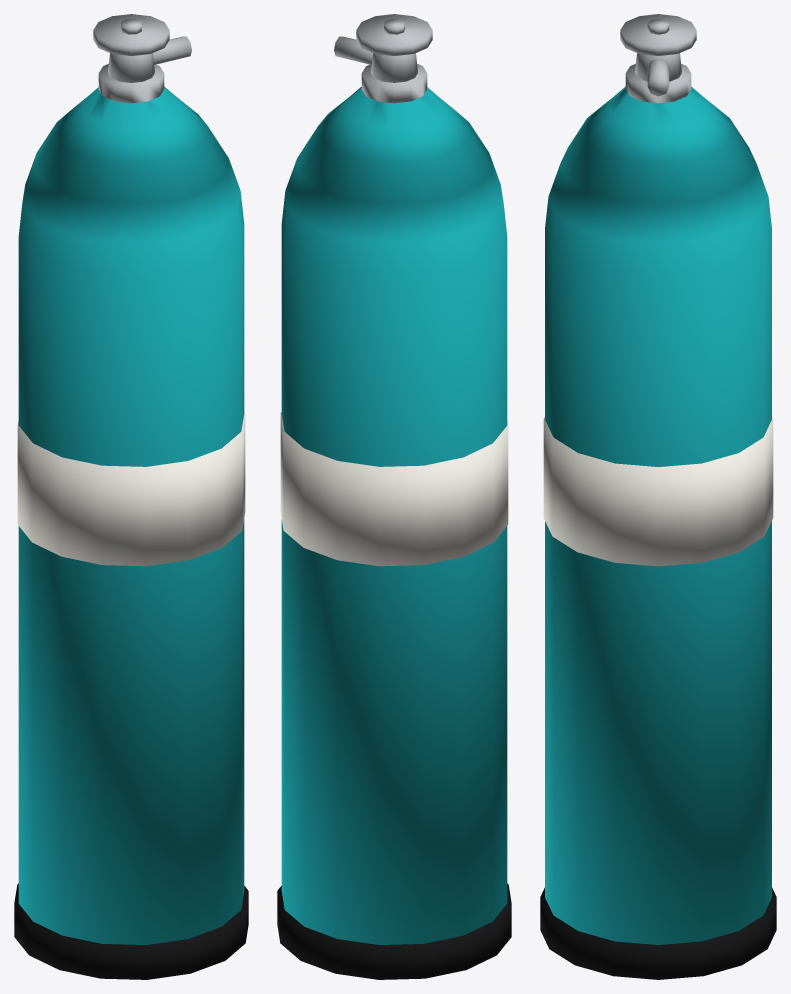
Rendered from CilindroAzul.fbx.
The picture shows the model from 3 angles, left to right: view 1: azimuth 30°, elevation 25°; view 2: azimuth 150°, elevation 25°; view 3: azimuth 270°, elevation 25°; orthographic projection.
Parts seen in each view (by area): view 1: CilindroAzul; view 2: CilindroAzul; view 3: CilindroAzul.
Boxes of the visible parts, x1,y1,x2,y2 form: CilindroAzul: (14, 14, 248, 979); CilindroAzul: (277, 14, 511, 979); CilindroAzul: (540, 14, 776, 979).
Size of the model in its own units: 0.26 by 1.1 by 0.26.
